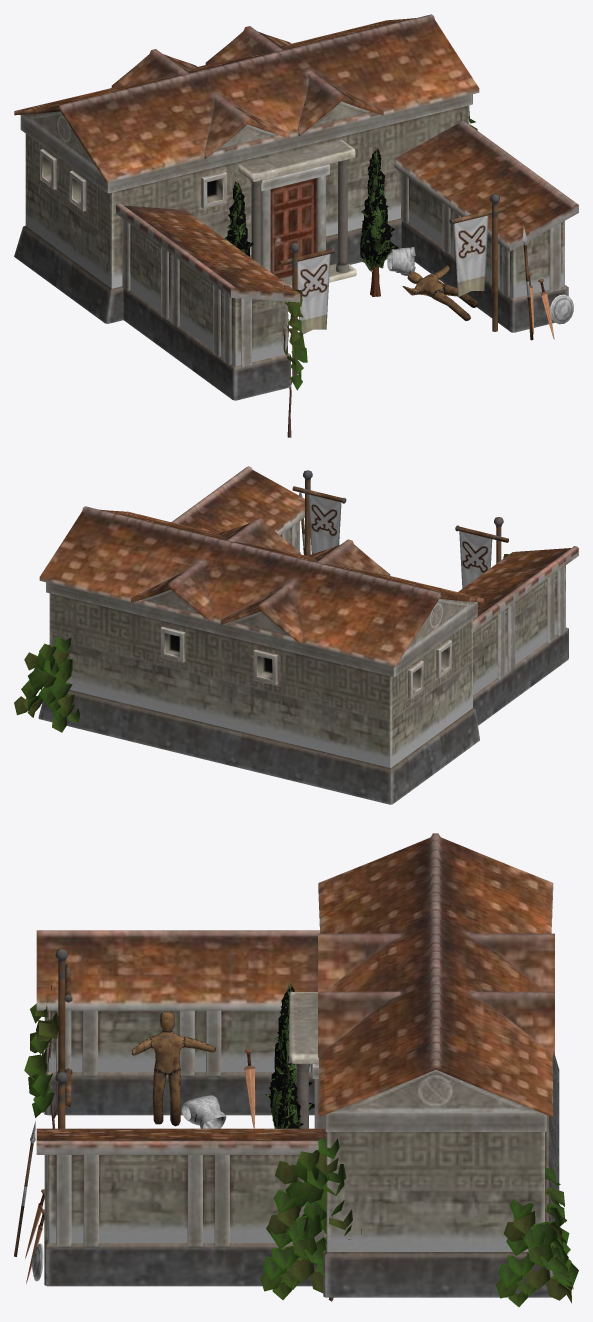
File: 43-militaryacademy.glb
3 views of the same model, one above another, from view 1: azimuth 30°, elevation 25°; view 2: azimuth 150°, elevation 25°; view 3: azimuth 270°, elevation 25° (orthographic). The views are drawn at different scales.
Bounding box in the file's own units: 8.33 × 4.85 × 8.23.
Materials: 11 (11 with a texture image).
